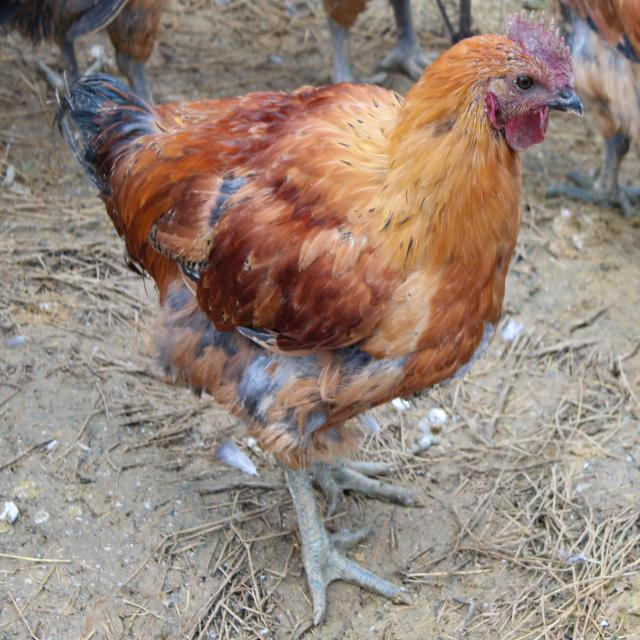hen: (56, 15, 582, 623)
